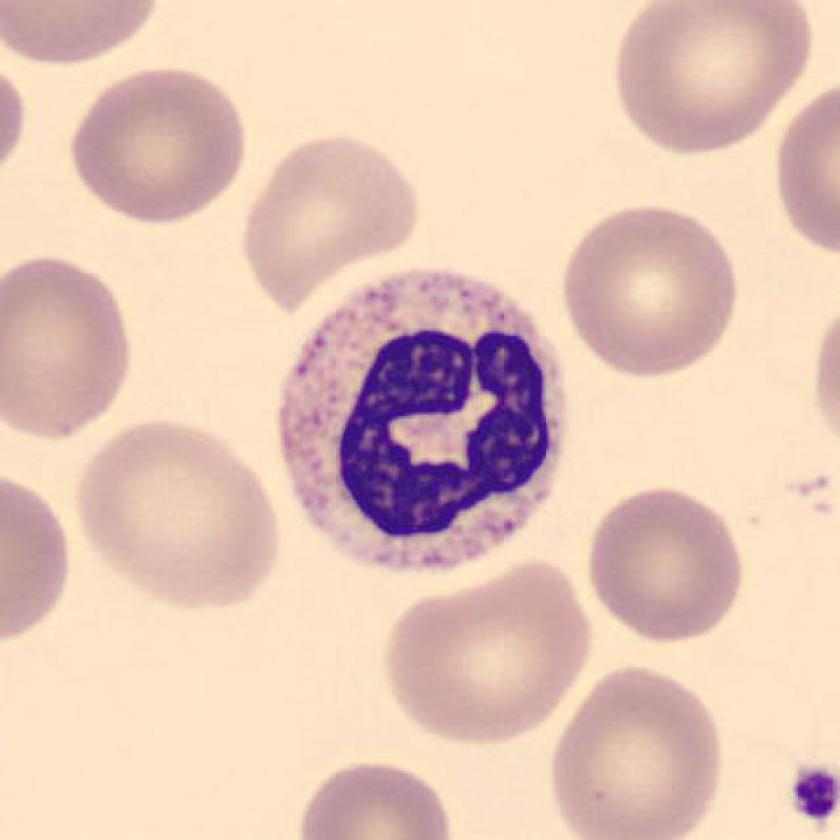neutrophil: (281, 269, 567, 571)
